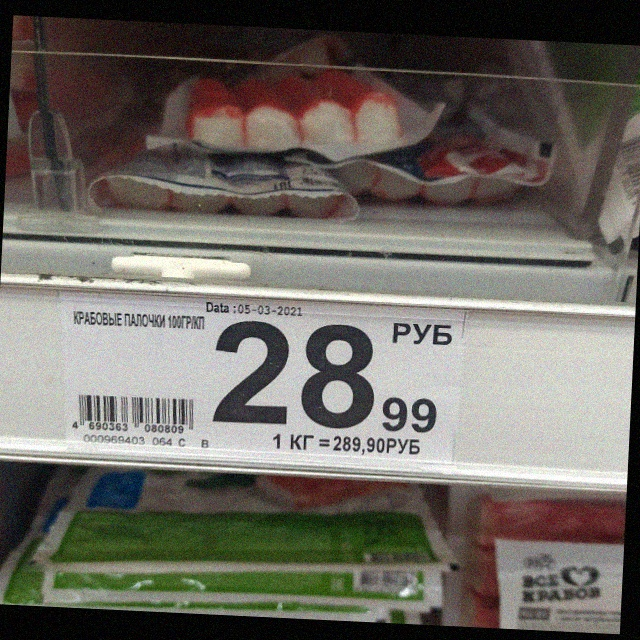barcode: (68, 393, 196, 436)
name: (71, 305, 207, 333)
price: (211, 320, 438, 436)
price_tag: (58, 288, 457, 460)
